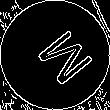M_SW: (21, 21, 89, 89)
